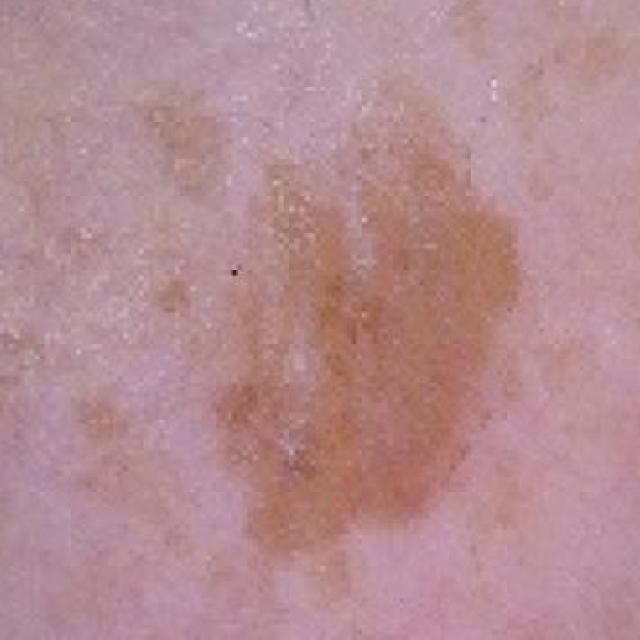BKL: (126, 63, 584, 640)
